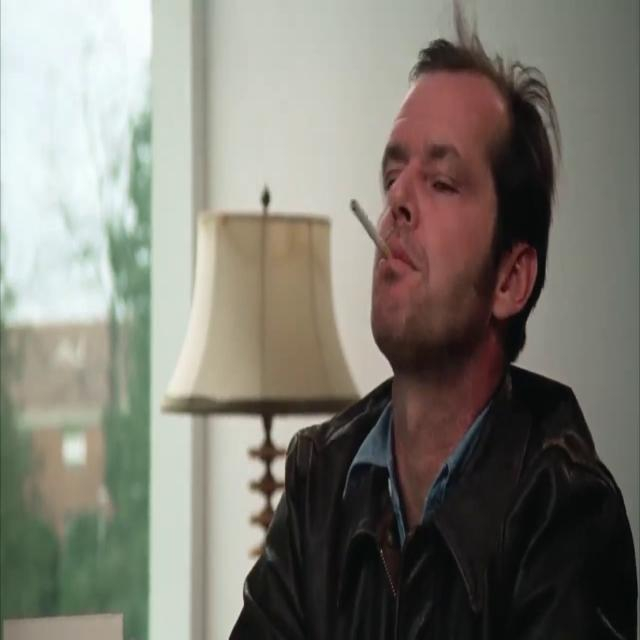Smooking: (346, 191, 390, 263)
